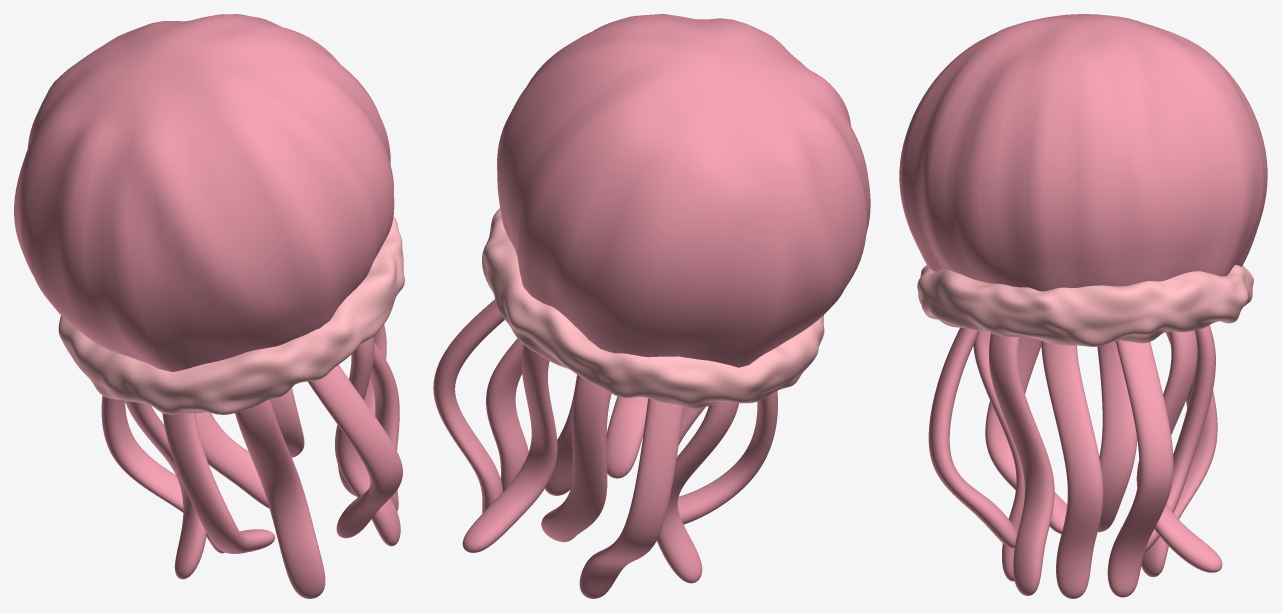
File: Jellyfish.glb
The picture shows the model from 3 angles, left to right: view 1: azimuth 30°, elevation 25°; view 2: azimuth 150°, elevation 25°; view 3: azimuth 270°, elevation 25°; orthographic projection. The views are drawn at different scales.
Visible parts, largest first — view 1: Cube, Torus, Cube.012, Cube.003, Cube.010, Cube.009, Cube.005, Cube.011, Cube.008, Cube.006, Cube.004, Cube.007; view 2: Cube, Torus, Cube.009, Cube.004, Cube.008, Cube.007, Cube.011, Cube.006, Cube.010, Cube.003, Cube.005; view 3: Cube, Torus, Cube.006, Cube.007, Cube.005, Cube.003, Cube.011, Cube.004, Cube.008, Cube.010, Cube.009, Cube.012.
Boxes of the visible parts, bbox=[...] form: Cube: bbox=[14, 14, 394, 371]; Torus: bbox=[58, 217, 404, 414]; Cube.012: bbox=[235, 400, 325, 598]; Cube.003: bbox=[307, 364, 402, 538]; Cube.010: bbox=[162, 413, 275, 553]; Cube.009: bbox=[101, 395, 224, 553]; Cube.005: bbox=[335, 336, 400, 546]; Cube.011: bbox=[125, 400, 206, 579]; Cube.008: bbox=[195, 412, 269, 508]; Cube.006: bbox=[370, 343, 399, 511]; Cube.004: bbox=[270, 388, 304, 457]; Cube.007: bbox=[338, 324, 386, 495]; Cube: bbox=[497, 14, 870, 367]; Torus: bbox=[482, 208, 824, 408]; Cube.009: bbox=[579, 398, 683, 598]; Cube.004: bbox=[462, 345, 557, 552]; Cube.008: bbox=[541, 375, 611, 542]; Cube.007: bbox=[433, 299, 504, 513]; Cube.011: bbox=[657, 402, 738, 583]; Cube.006: bbox=[486, 338, 528, 491]; Cube.010: bbox=[677, 391, 777, 524]; Cube.003: bbox=[606, 396, 647, 478]; Cube.005: bbox=[545, 375, 578, 495]; Cube: bbox=[899, 14, 1267, 291]; Torus: bbox=[917, 264, 1253, 346]; Cube.006: bbox=[1041, 340, 1103, 598]; Cube.007: bbox=[1107, 340, 1173, 597]; Cube.005: bbox=[988, 333, 1054, 595]; Cube.003: bbox=[928, 327, 1017, 548]; Cube.011: bbox=[1097, 341, 1137, 532]; Cube.004: bbox=[1136, 330, 1222, 572]; Cube.008: bbox=[1144, 325, 1215, 553]; Cube.010: bbox=[985, 337, 1067, 533]; Cube.009: bbox=[1141, 331, 1217, 577]; Cube.012: bbox=[973, 331, 1024, 581].
Bounding box in the file's own units: 4.19 × 5.88 × 3.73.
